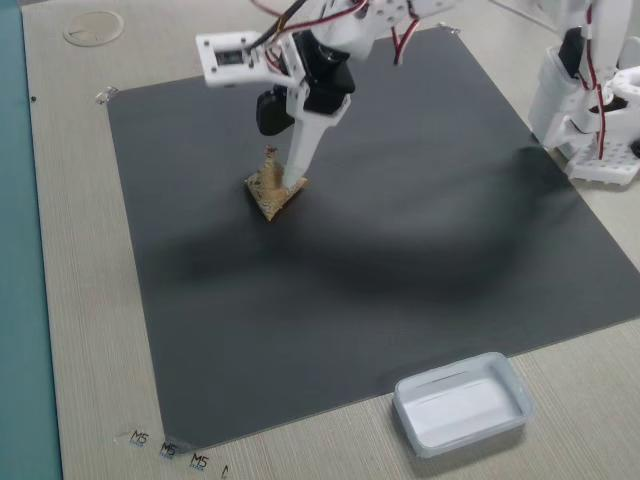gripper: (247, 44, 364, 187)
